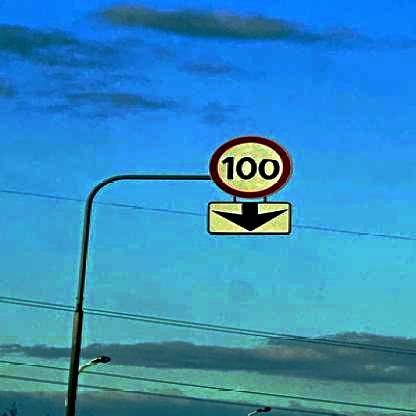Speed Limit -100-: (207, 136, 294, 200)
